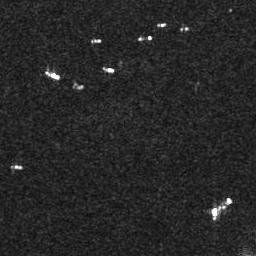ship: (210, 195, 233, 221), (44, 70, 60, 81), (137, 34, 154, 43), (9, 163, 23, 171), (102, 65, 114, 74), (91, 37, 101, 44), (156, 21, 166, 28)
